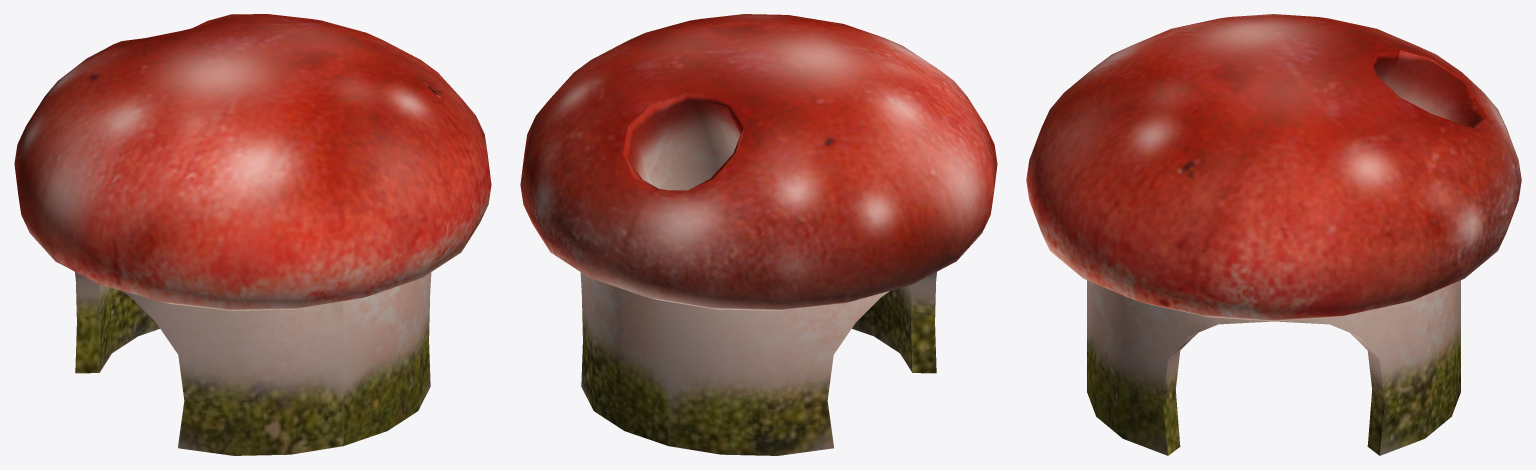
Rendered from Habitat_Object_Mushroom_Hut.fbx.
3 views of the same model, side by side, from view 1: azimuth 30°, elevation 25°; view 2: azimuth 150°, elevation 25°; view 3: azimuth 270°, elevation 25° (orthographic). The views are drawn at different scales.
Parts seen in each view (by area): view 1: polySurface5; view 2: polySurface5; view 3: polySurface5.
Boxes of the visible parts, x1,y1,x2,y2 form: polySurface5: (14, 14, 491, 455); polySurface5: (520, 14, 997, 455); polySurface5: (1026, 14, 1521, 455).
Size of the model in its own units: 46.2 by 35.13 by 46.2.
